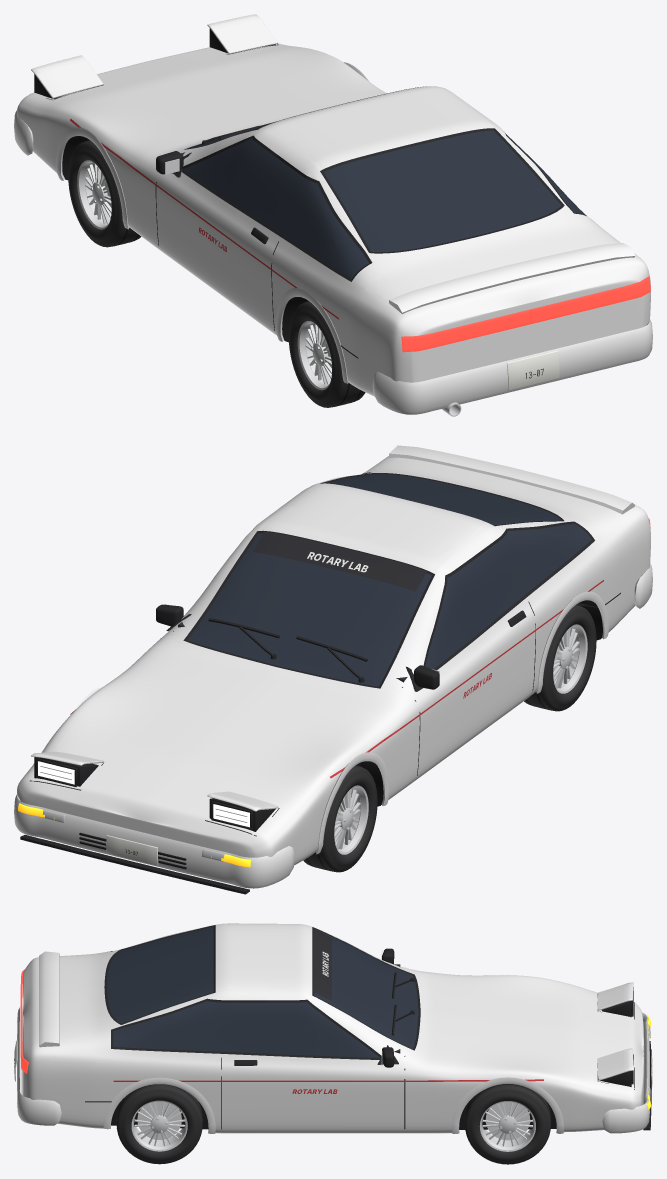
3 views of the same model, one above another, from view 1: azimuth 30°, elevation 25°; view 2: azimuth 150°, elevation 25°; view 3: azimuth 270°, elevation 25° (orthographic). The views are drawn at different scales.
Parts seen in each view (by area): view 1: Body, Wheel_RL, Wheel_FL, Popup_L, Popup_R; view 2: Body, Wheel_FL, Wheel_RL, Popup_L, Popup_R; view 3: Body, Wheel_FR, Wheel_RR, Popup_R, Popup_L.
Boxes of the visible parts, x1,y1,x2,y2 form: Body: [14, 43, 652, 416]; Wheel_RL: [288, 301, 365, 407]; Wheel_FL: [68, 140, 141, 247]; Popup_L: [31, 55, 103, 98]; Popup_R: [207, 14, 277, 54]; Body: [14, 445, 652, 894]; Wheel_FL: [303, 765, 377, 872]; Wheel_RL: [524, 604, 596, 711]; Popup_L: [207, 791, 278, 831]; Popup_R: [31, 751, 103, 786]; Body: [14, 923, 652, 1133]; Wheel_FR: [464, 1084, 551, 1164]; Wheel_RR: [116, 1084, 202, 1164]; Popup_R: [597, 1048, 633, 1086]; Popup_L: [597, 982, 633, 1017].
Bounding box in the file's own units: 1.79 × 1.25 × 4.46.
